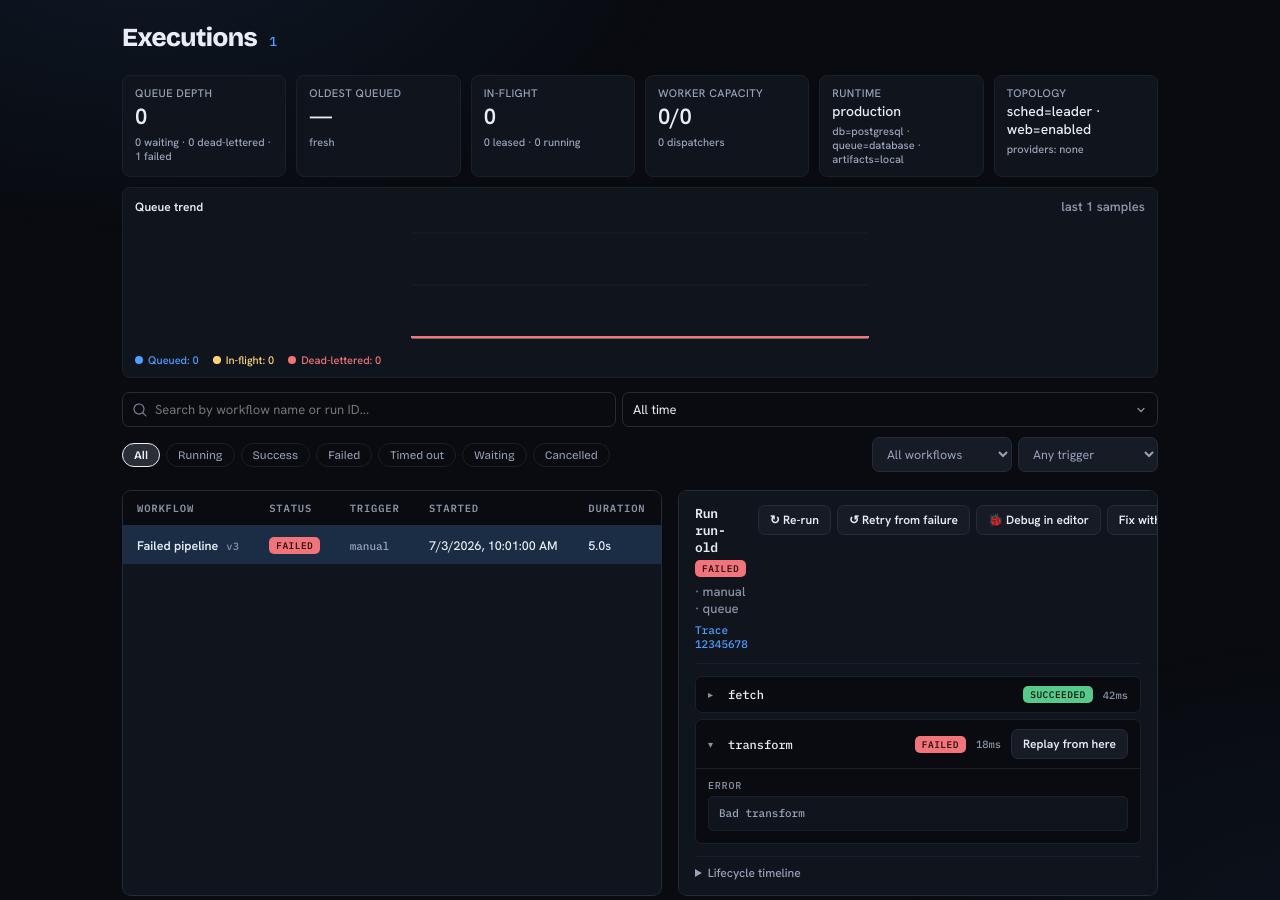
Test case: ExecutionsPage replay from node › replays from the failed node and follows the queued replay run
The width and height of the screenshot is (1280, 900).
Click the button "Replay from here": coordinates (1070, 744) 1011,729 -> 1128,759
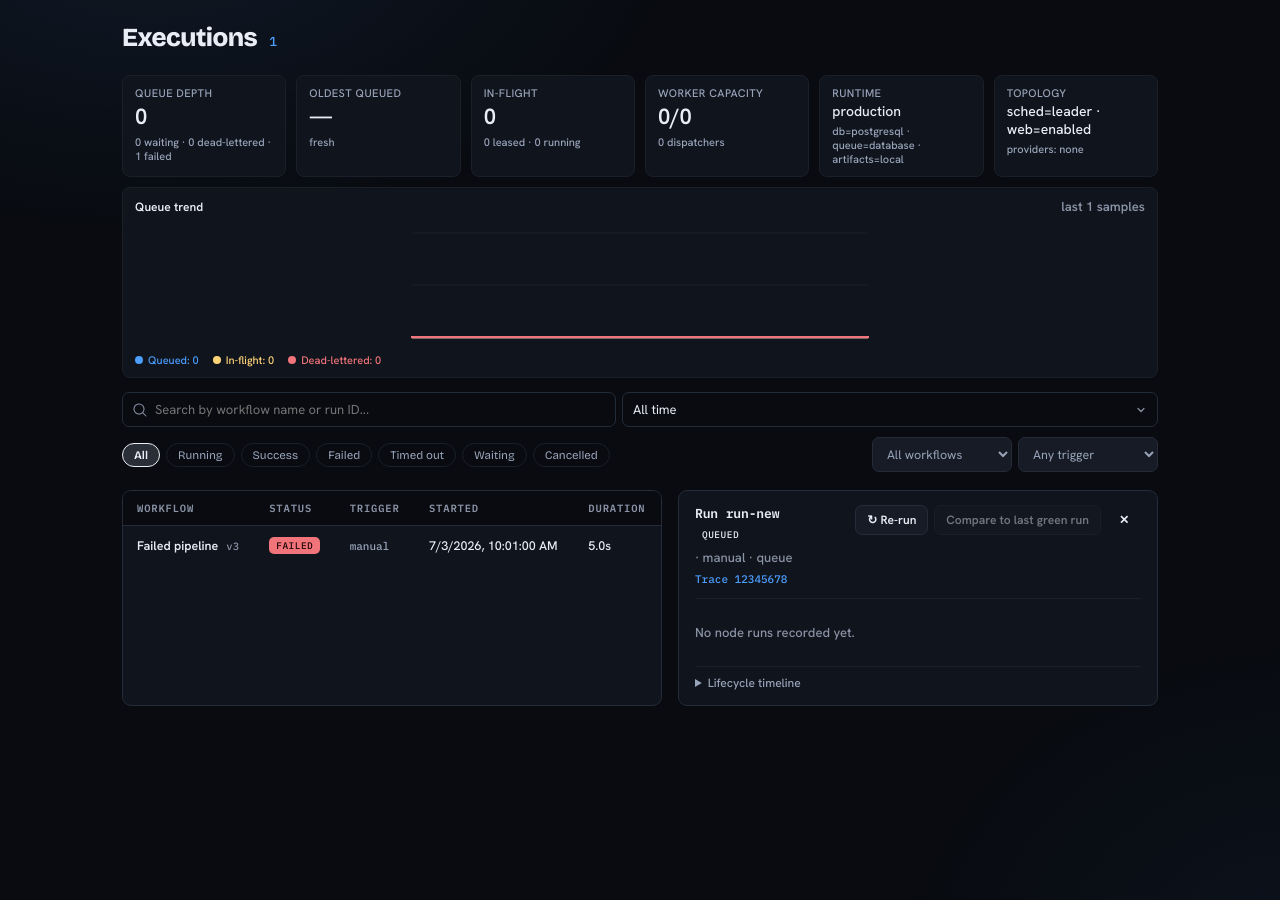
Expected: the heading "Run run-new" is shown, 695,505 -> 779,522
